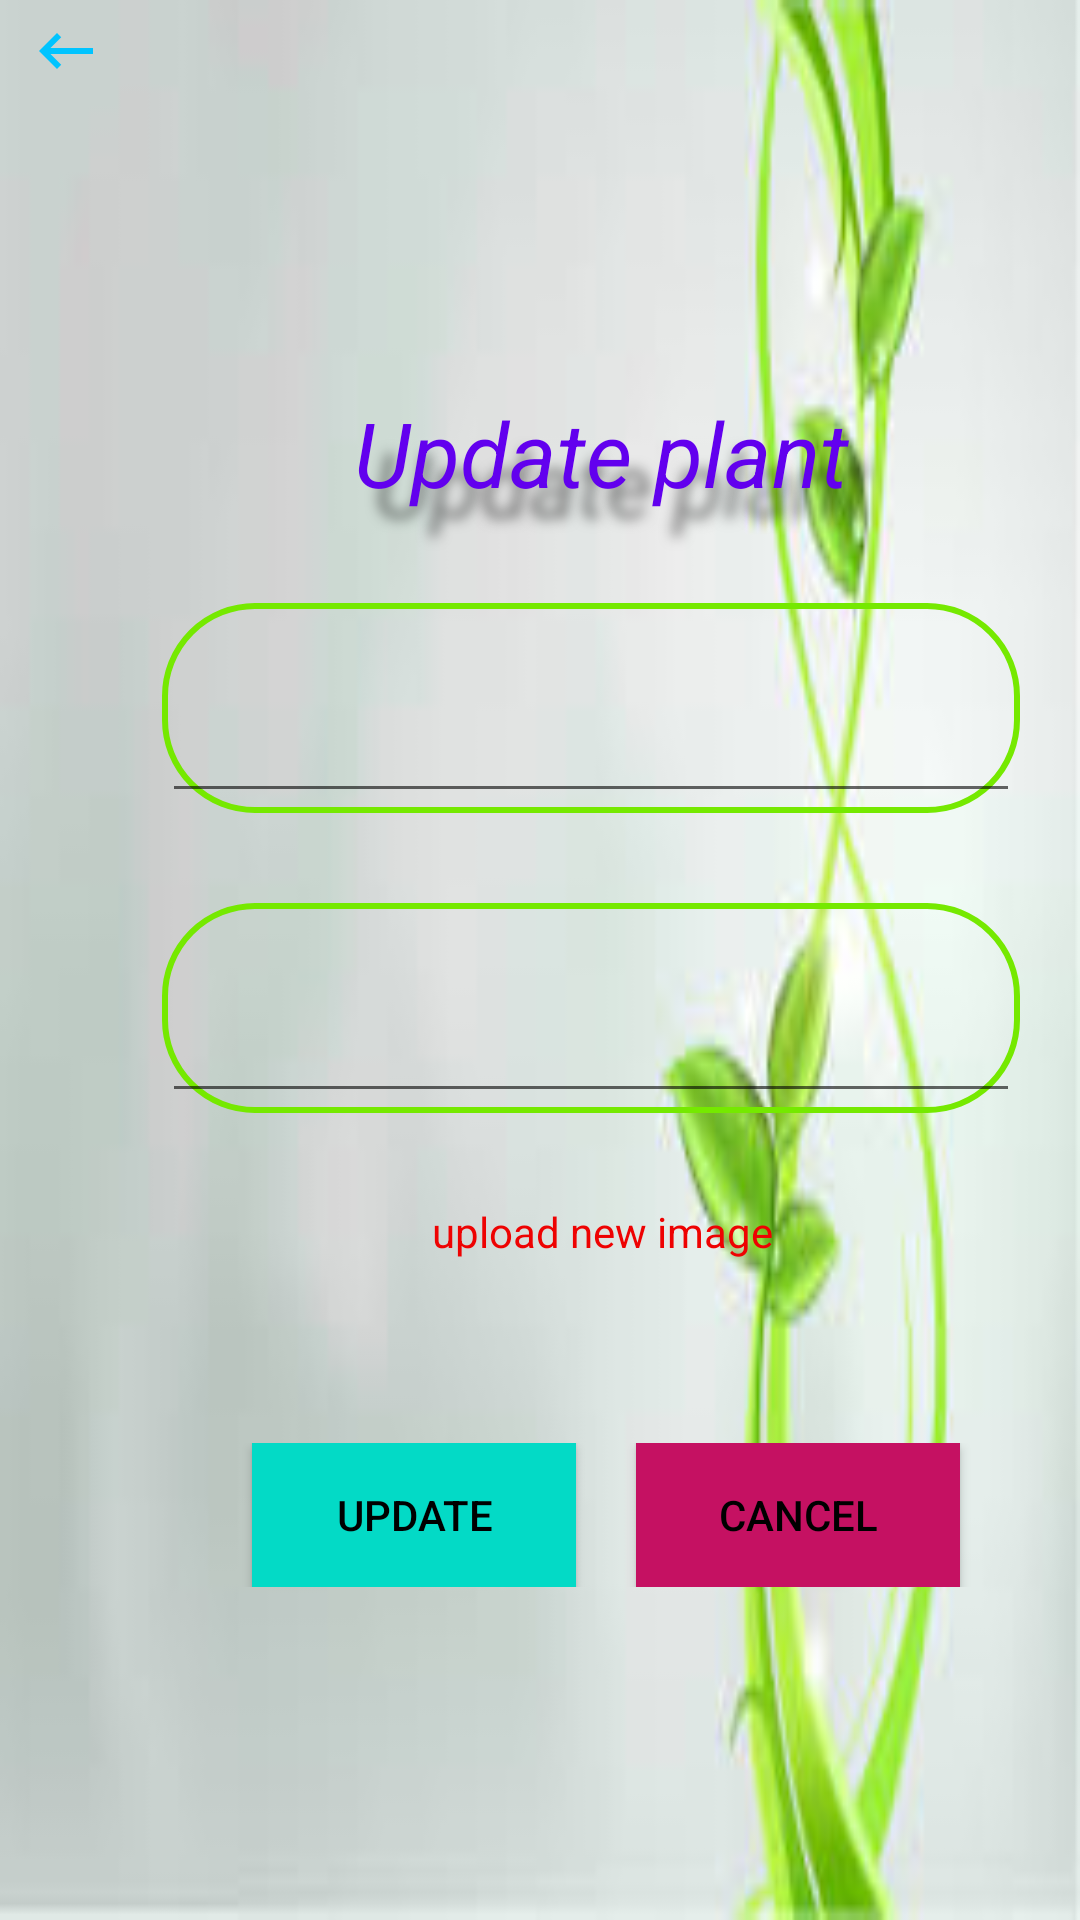

Icon bounding boxes for this 1080*1920 phone screenshot, format (x1, y1, x2, y2):
backk: (39, 33, 93, 69)
